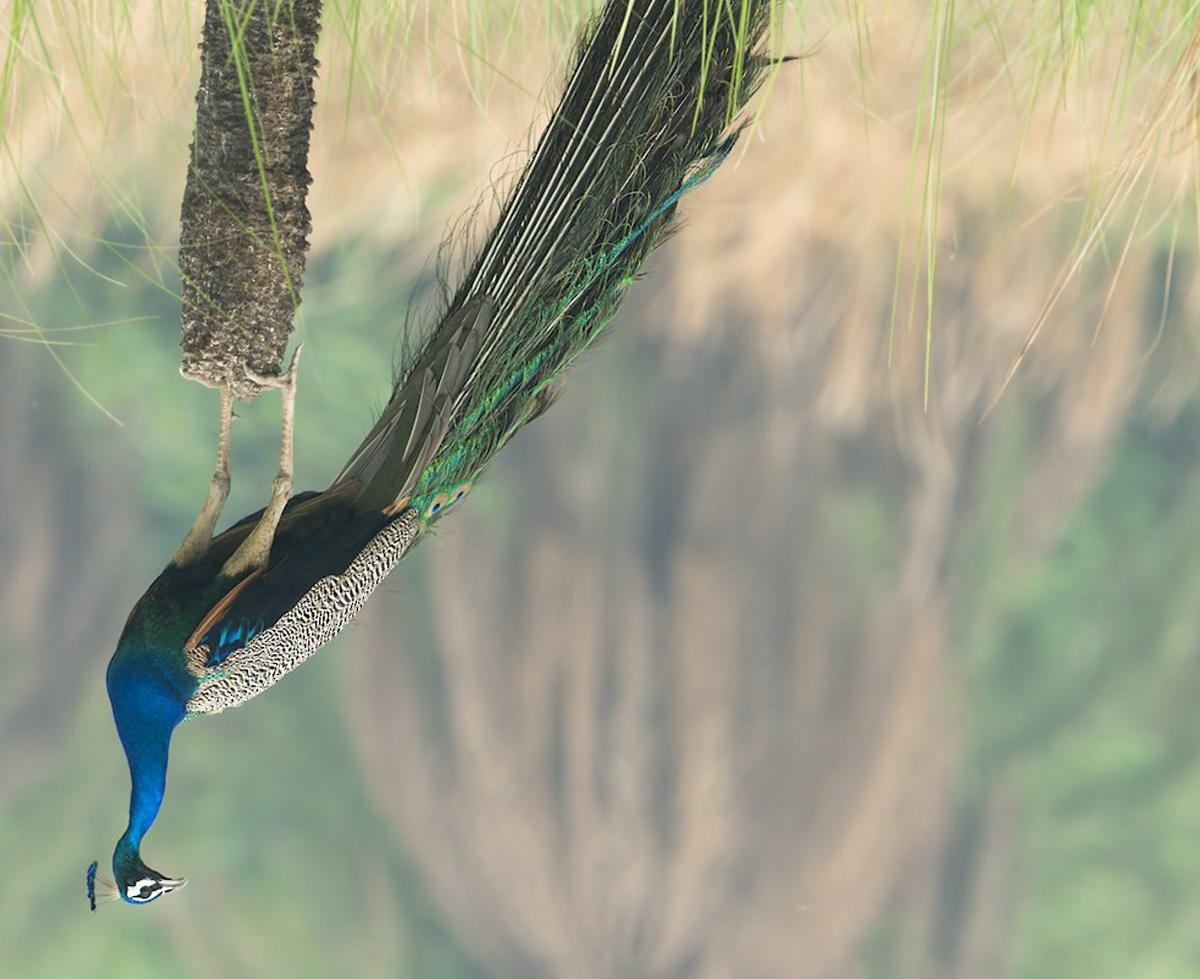peacock: (82, 1, 786, 917)
